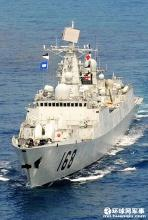warship: (13, 21, 136, 185)
